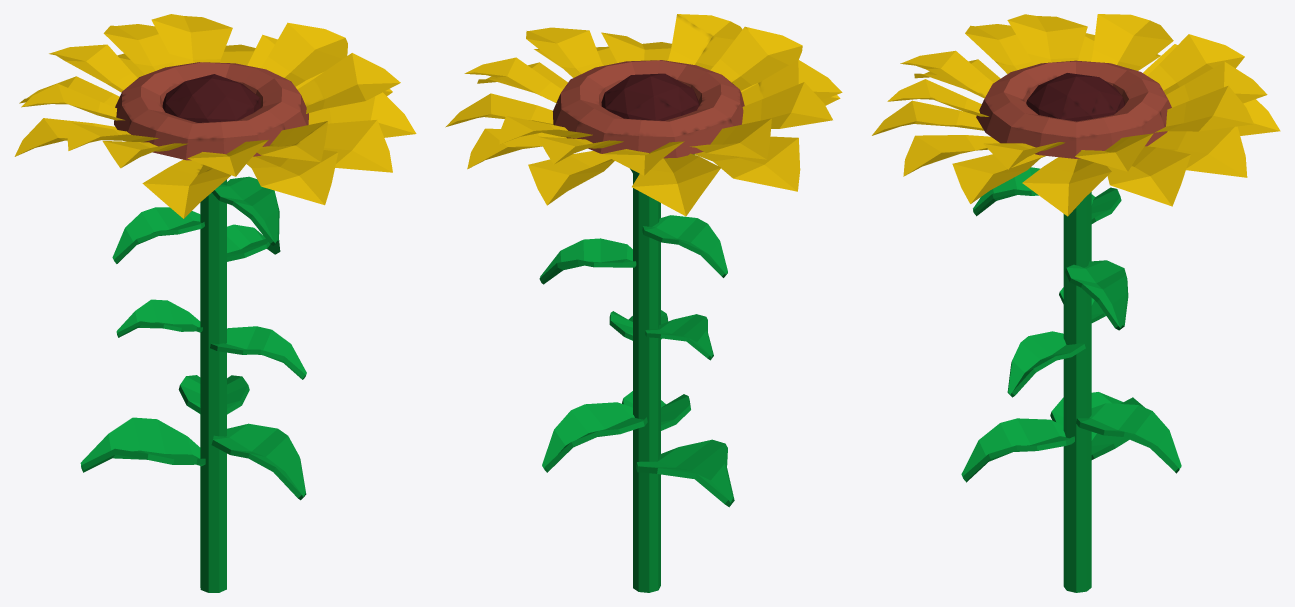
The model's file is Sunflower.fbx.
3 renders of one model, left to right at view 1: azimuth 30°, elevation 25°; view 2: azimuth 150°, elevation 25°; view 3: azimuth 270°, elevation 25°, orthographic.
Parts seen in each view (by area): view 1: Sunflower.001, Sunflower; view 2: Sunflower.001, Sunflower; view 3: Sunflower.001, Sunflower.
Boxes of the visible parts, bbox=[...] form: Sunflower.001: bbox=[14, 14, 416, 218]; Sunflower: bbox=[80, 176, 306, 592]; Sunflower.001: bbox=[445, 14, 842, 216]; Sunflower: bbox=[539, 154, 734, 592]; Sunflower.001: bbox=[872, 14, 1280, 216]; Sunflower: bbox=[961, 167, 1181, 592].
Size of the model in its own units: 149 by 207 by 151.
1 material, 1 textured.
